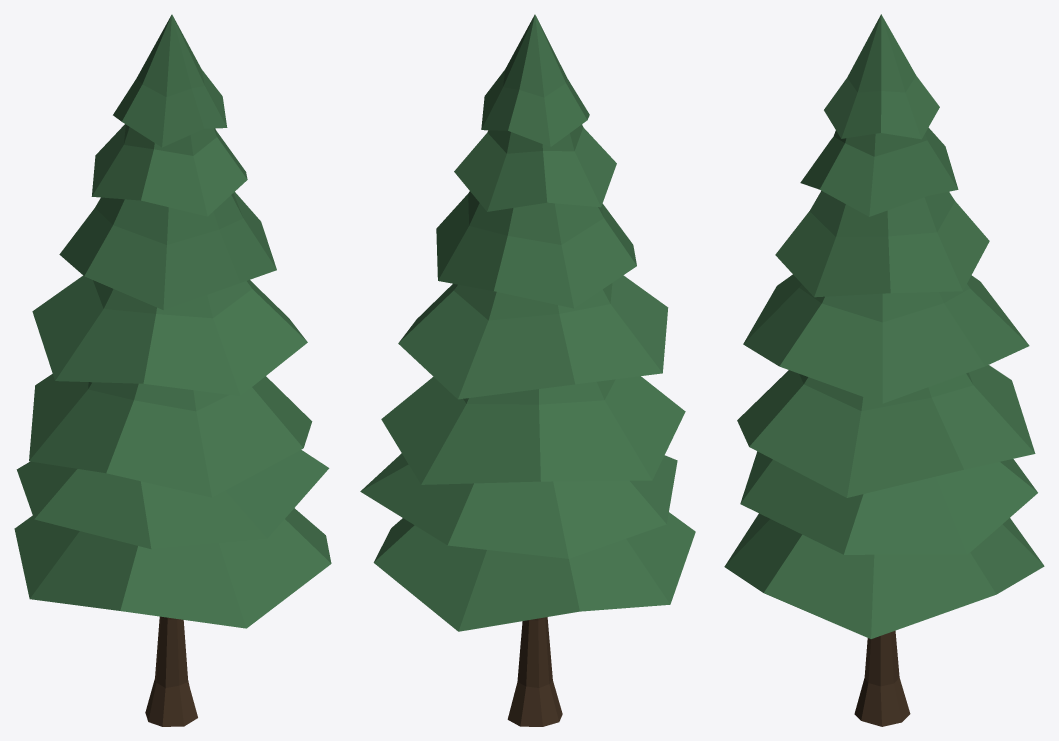
The model's file is agac.fbx.
3 renders of one model, left to right at view 1: azimuth 30°, elevation 25°; view 2: azimuth 150°, elevation 25°; view 3: azimuth 270°, elevation 25°, orthographic.
Visible parts, largest first — view 1: Agac; view 2: Agac; view 3: Agac.
Part boxes in pixels (<box>): Agac: <box>14,14,331,726</box>; Agac: <box>360,14,695,726</box>; Agac: <box>724,14,1044,726</box>.
Size of the model in its own units: 486 by 1134 by 470.
